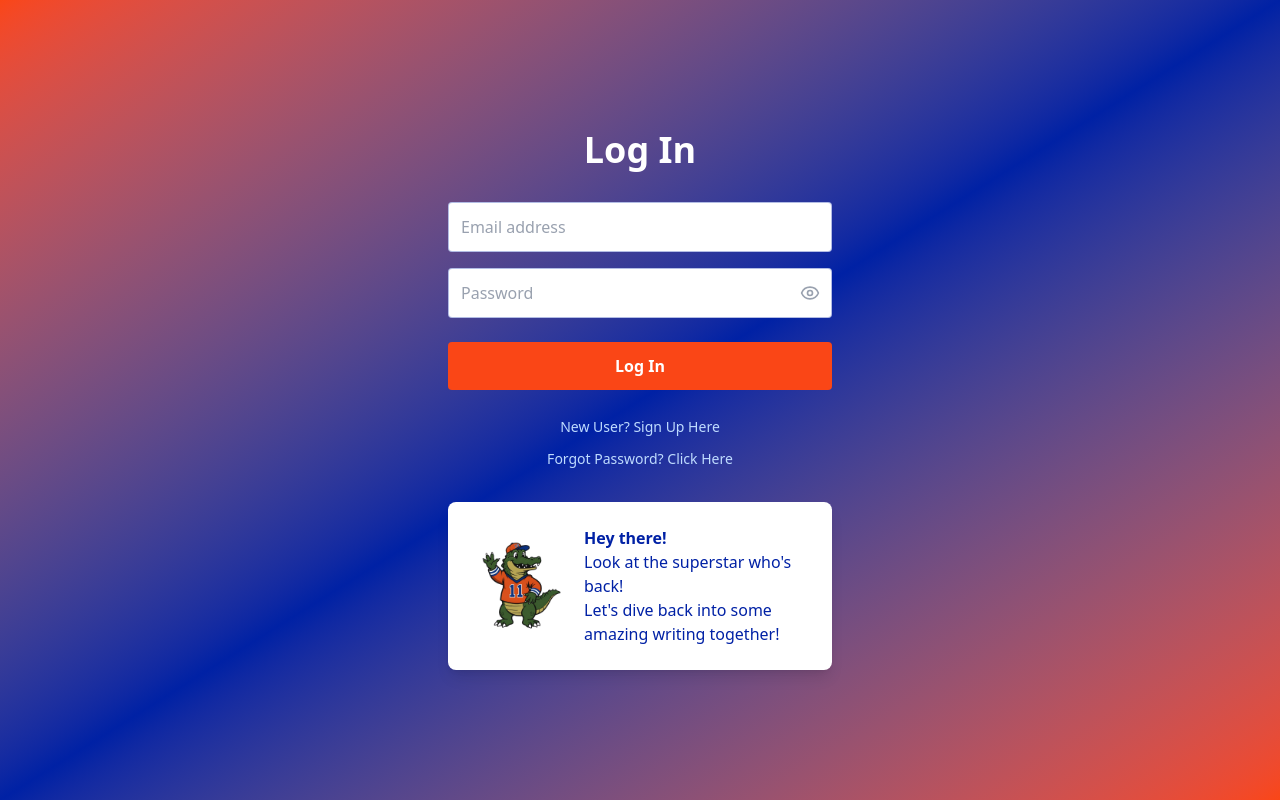
Login Page Tests › should handle server error responses
# Fill in valid format credentials
Type "error@ufl.edu" into the field named "email" at (640, 227), box [448,202,832,252]
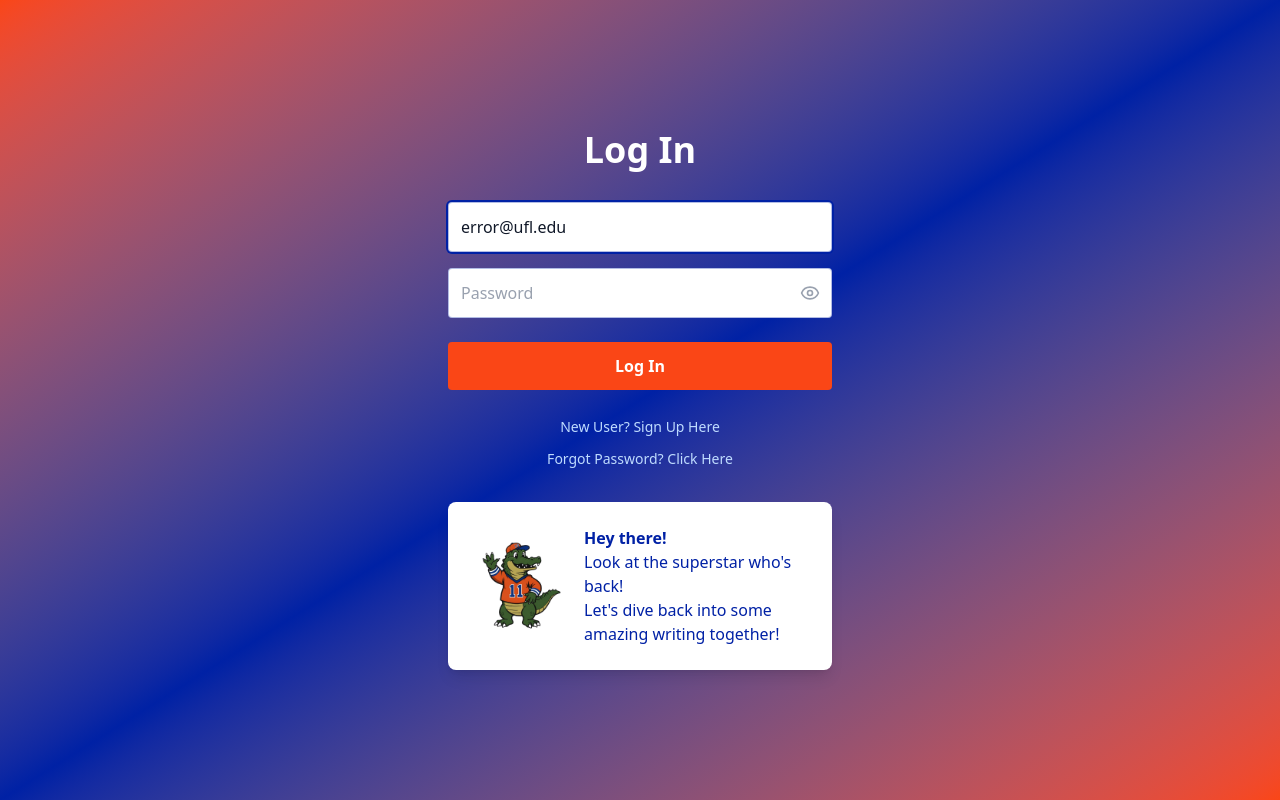
Type "Password123" into the password field named "password" at (640, 293), box [448,268,832,318]
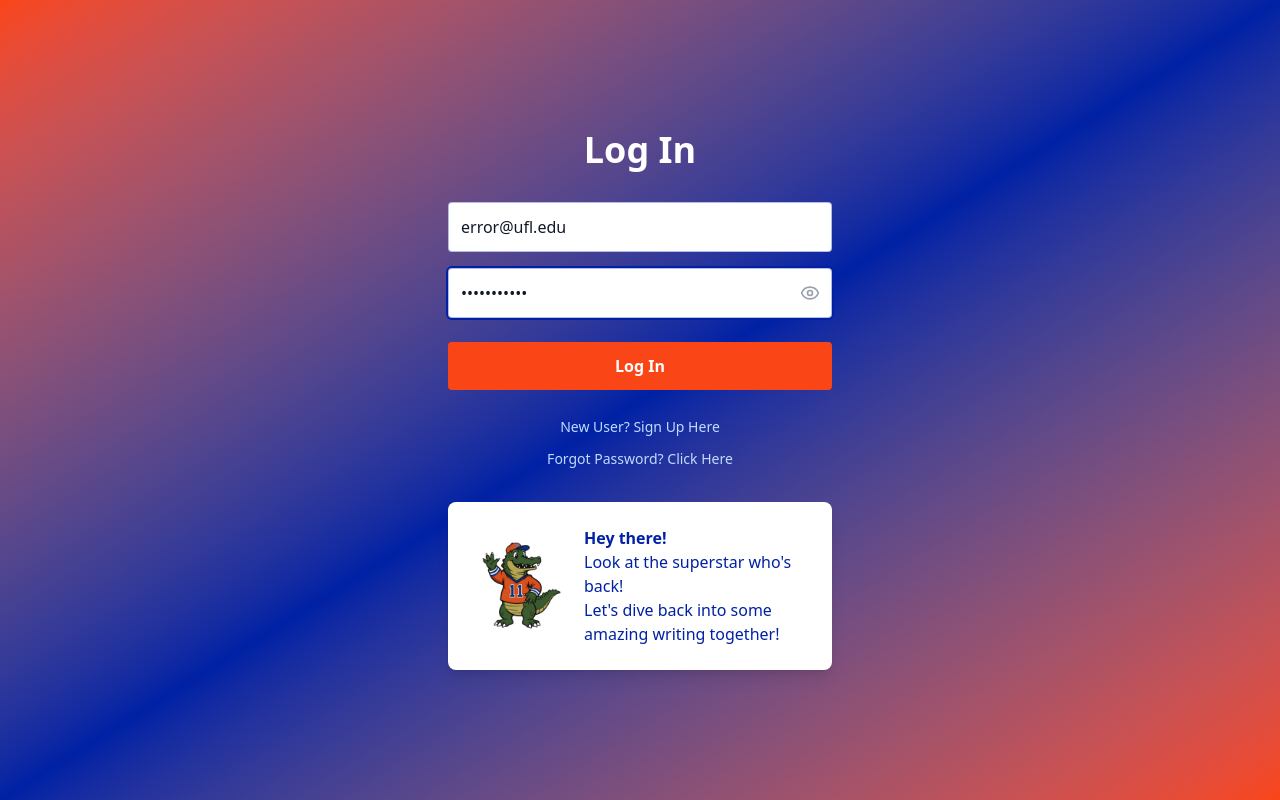
# Submit form
Click the submit button at (640, 366), box [448,342,832,390]
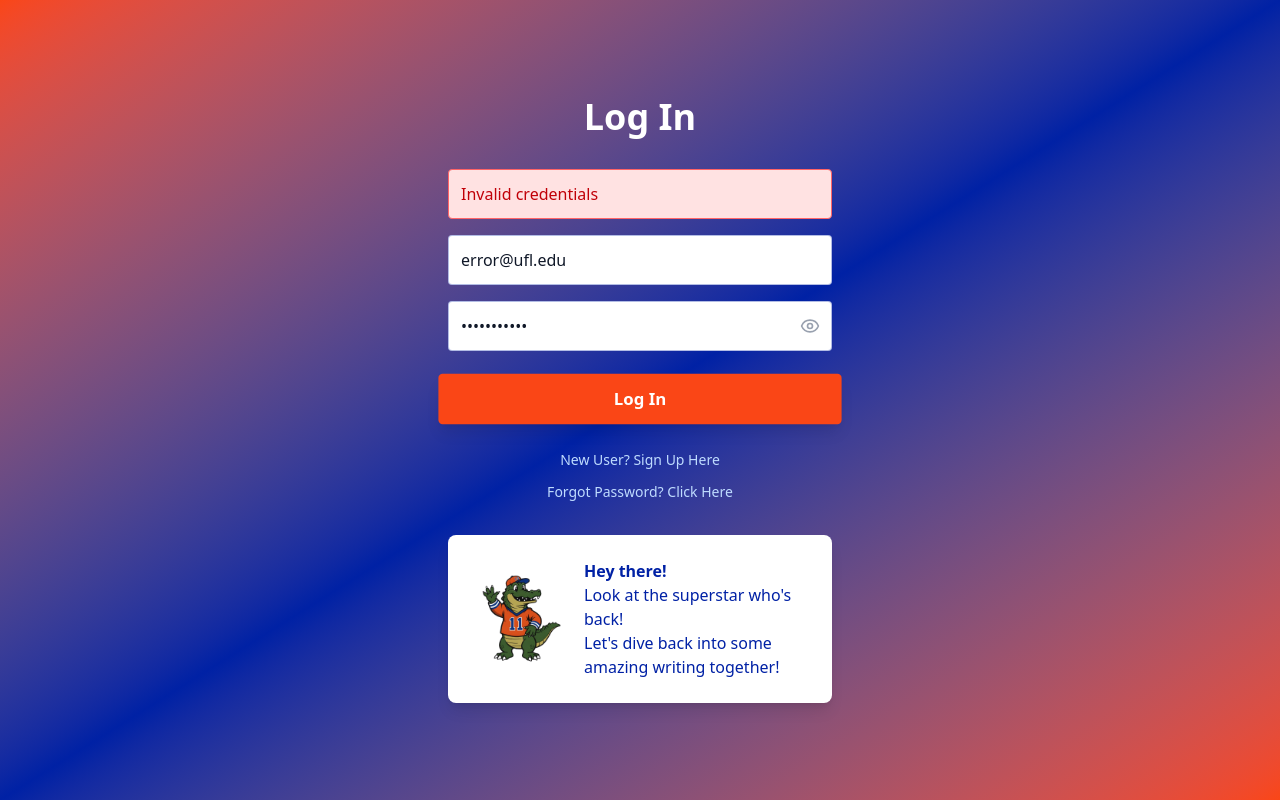
Result: the text "Invalid credentials" is shown at [448,169,832,219]
